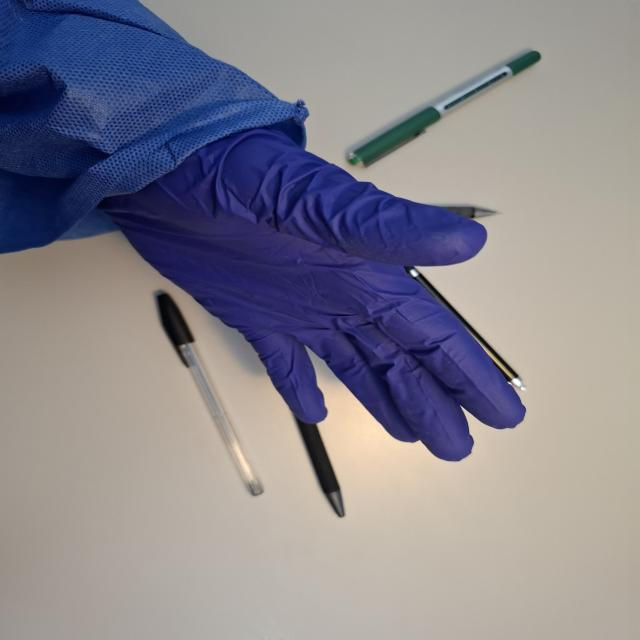glove_on: (84, 109, 529, 464)
